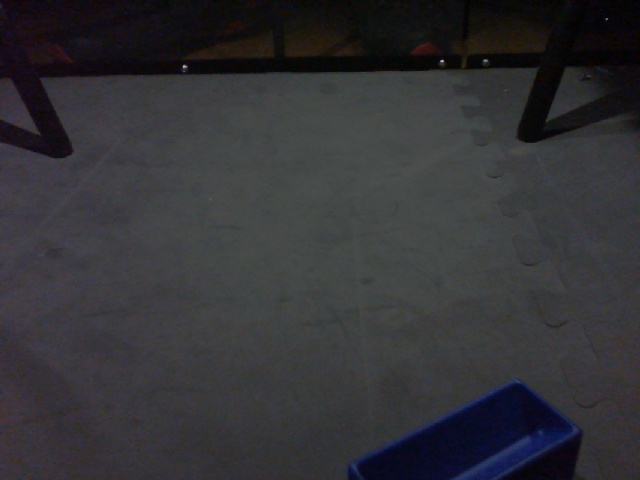BlueSample: (342, 377, 589, 479)
